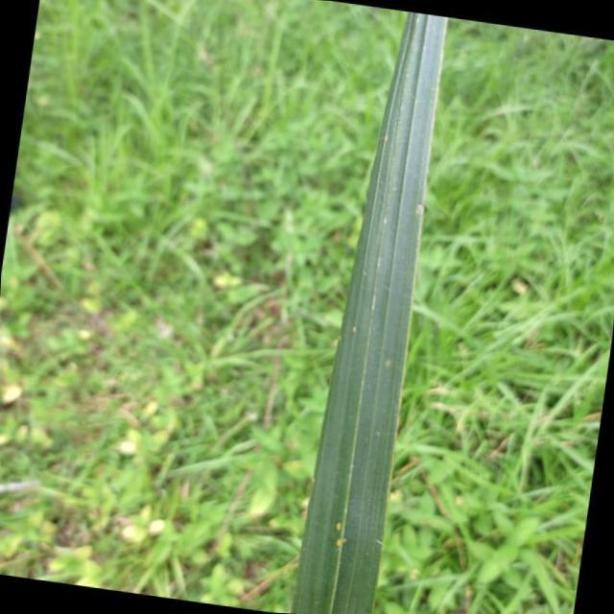Boron: (294, 0, 448, 614)
